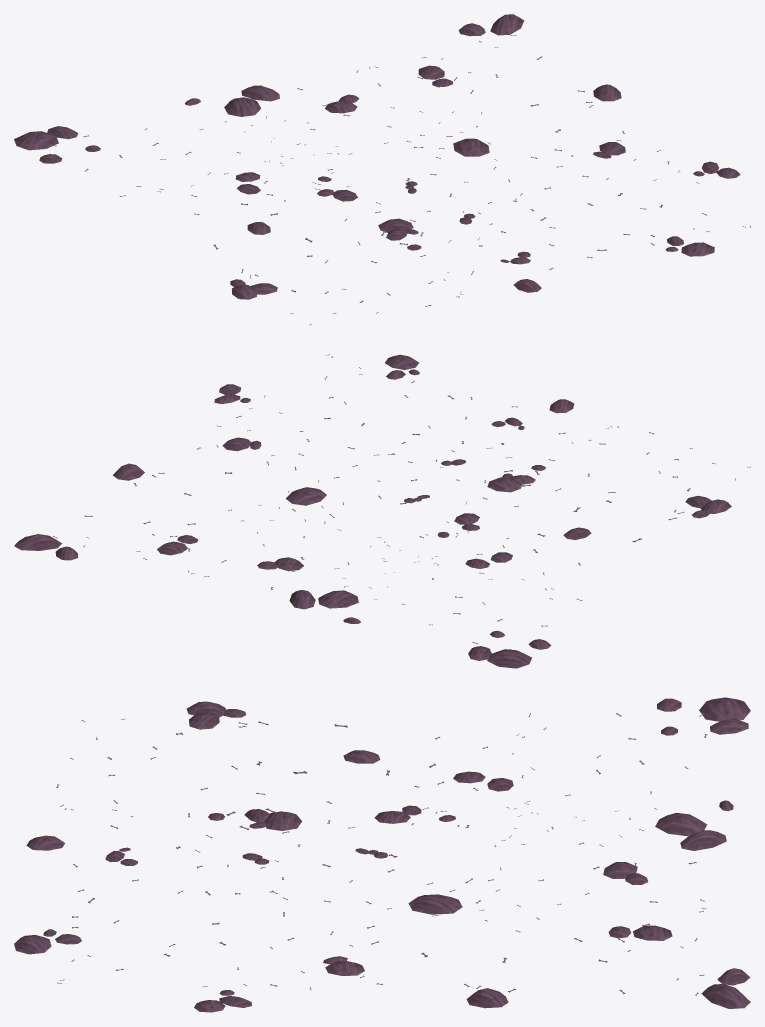
The model's file is mounds_bones_glb.glb.
3 renders of one model, top to bottom at view 1: azimuth 30°, elevation 25°; view 2: azimuth 150°, elevation 25°; view 3: azimuth 270°, elevation 25°, orthographic. The views are drawn at different scales.
Parts seen in each view (by area): view 1: mound_model1; view 2: mound_model1; view 3: mound_model1.
Boxes of the visible parts, x1=… form: mound_model1: x1=14, y1=14, x2=750, y2=325; mound_model1: x1=14, y1=354, x2=750, y2=668; mound_model1: x1=14, y1=697, x2=750, y2=1012.
Size of what is drawn, in the model's own units: 78.99 by 1.61 by 78.32.
Materials: 2 (2 with a texture image).
